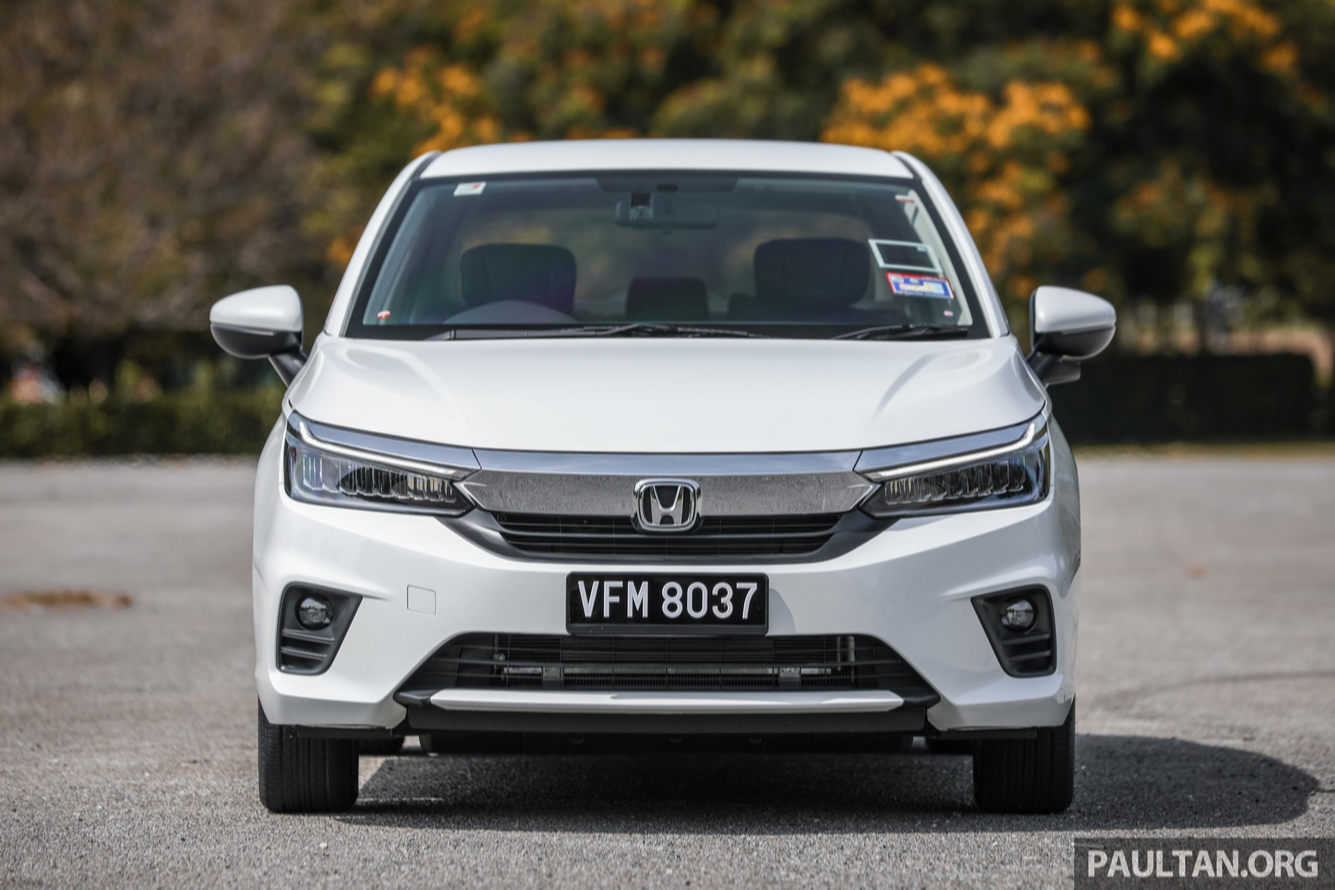Car hood: (283, 331, 1056, 473)
Front bumper: (239, 473, 1086, 741)
Headlight - -L-: (855, 408, 1054, 529)
Headlight - -R-: (283, 404, 485, 518)
Side mirror - -L-: (1018, 284, 1117, 396)
Side mirror - -R-: (198, 280, 330, 386)
